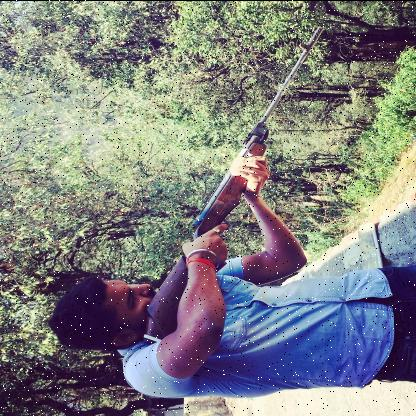rifle: (139, 20, 327, 346)
